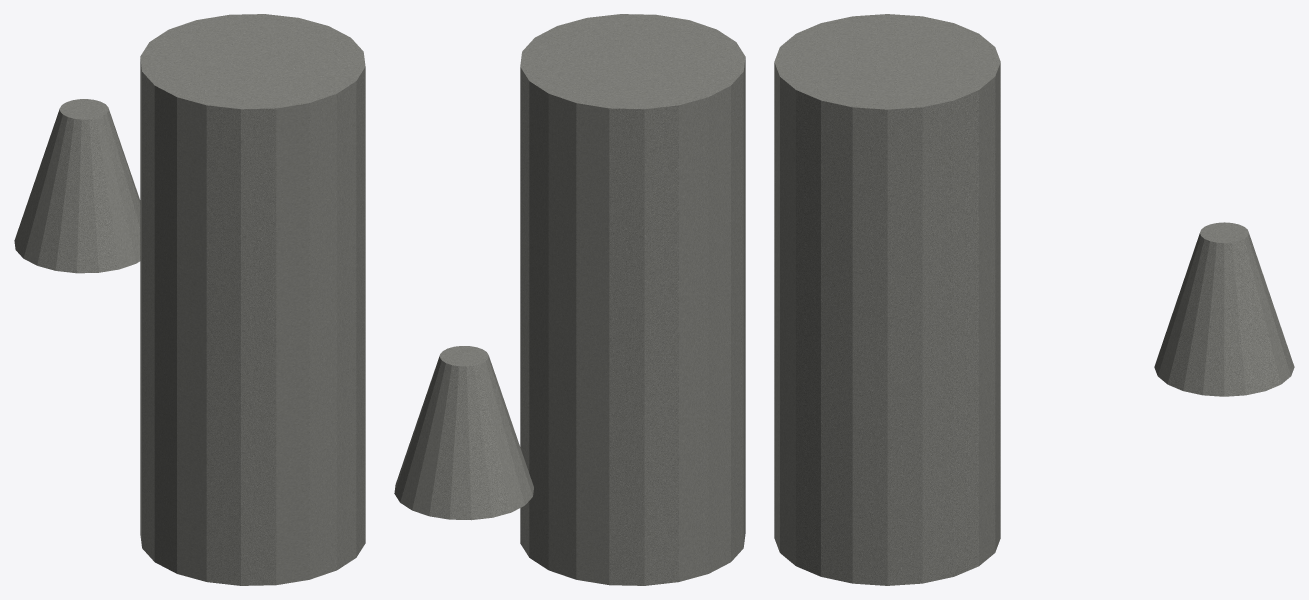
The picture shows the model from 3 angles, left to right: view 1: azimuth 30°, elevation 25°; view 2: azimuth 150°, elevation 25°; view 3: azimuth 270°, elevation 25°; orthographic projection.
Visible parts, largest first — view 1: cooling_tower_1u_production_run001; view 2: cooling_tower_1u_production_run001; view 3: cooling_tower_1u_production_run001.
Boxes of the visible parts, x1,y1,x2,y2 form: cooling_tower_1u_production_run001: (14,14,365,585); cooling_tower_1u_production_run001: (394,14,745,585); cooling_tower_1u_production_run001: (774,14,1294,585).
Bounding box in the file's own units: 1.68 × 3.9 × 3.86.
1 material, 1 textured.
